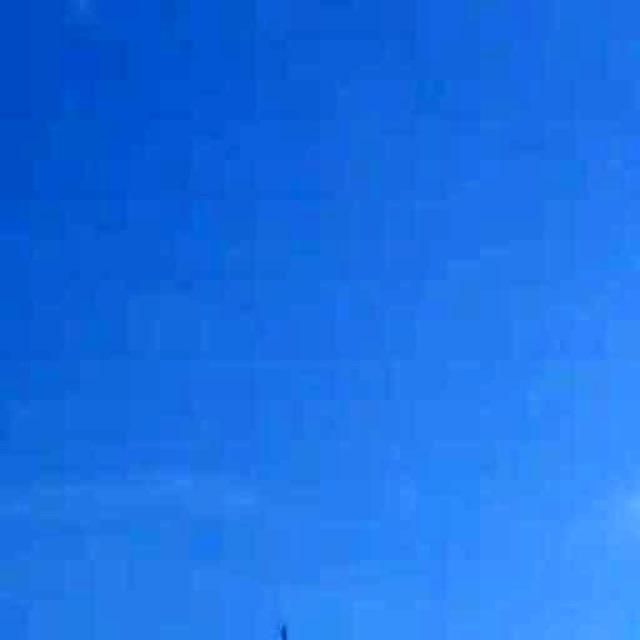drone: (261, 601, 302, 640)
